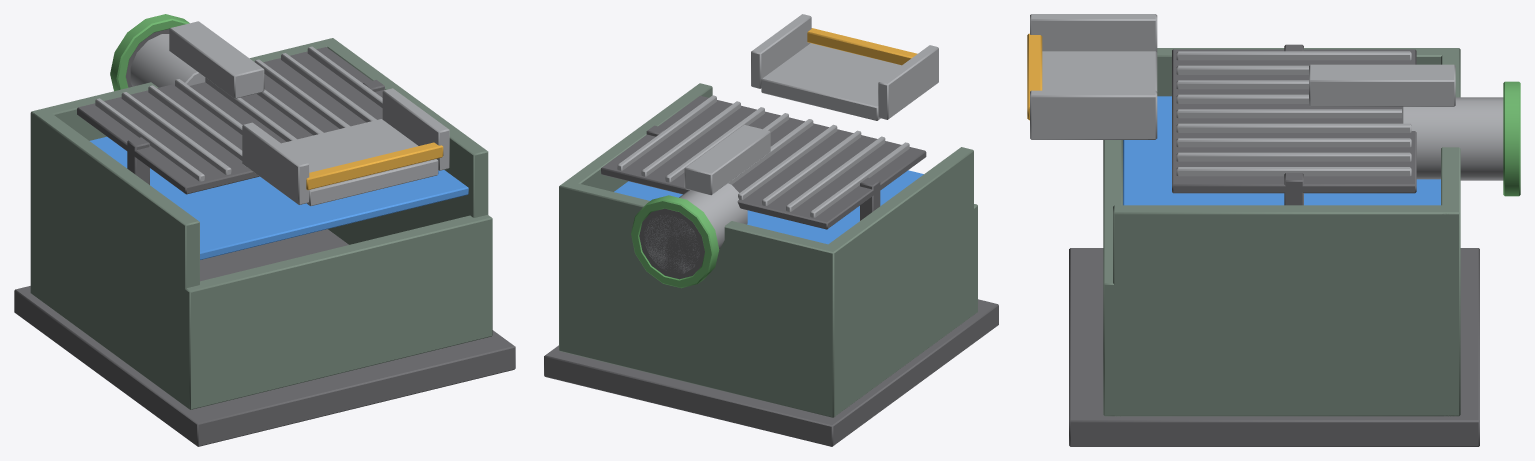
The model's file is feWasher.fbx.
3 renders of one model, left to right at view 1: azimuth 30°, elevation 25°; view 2: azimuth 150°, elevation 25°; view 3: azimuth 270°, elevation 25°, orthographic. The views are drawn at different scales.
Visible parts, largest first — view 1: feWasher_Base; view 2: feWasher_Base; view 3: feWasher_Base.
Part boxes in pixels (box(x1,y1,x2,y2)): feWasher_Base: box(14, 14, 515, 446); feWasher_Base: box(544, 14, 998, 446); feWasher_Base: box(1027, 14, 1520, 446).
Size of the model in its own units: 0.84 by 0.69 by 1.01.
